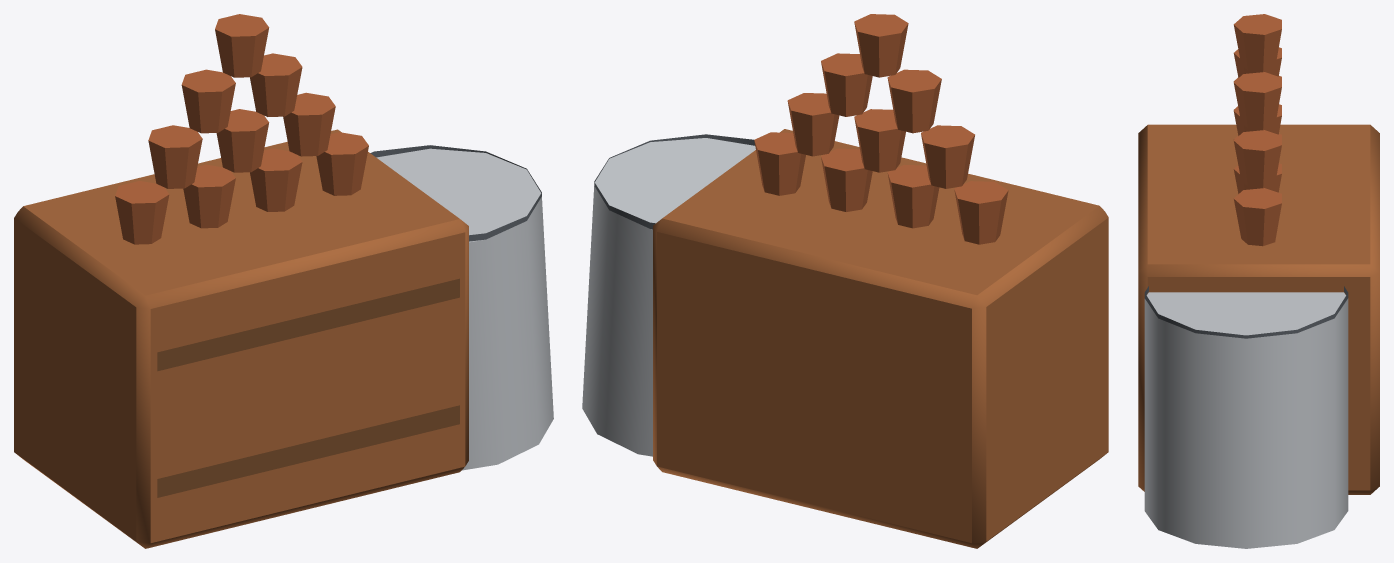
The model's file is growth_kulhad_crate.glb.
3 renders of one model, left to right at view 1: azimuth 30°, elevation 25°; view 2: azimuth 150°, elevation 25°; view 3: azimuth 270°, elevation 25°, orthographic. The views are drawn at different scales.
Visible parts, largest first — view 1: growth_kulhad_crate; view 2: growth_kulhad_crate; view 3: growth_kulhad_crate.
Boxes of the visible parts, x1=… form: growth_kulhad_crate: x1=14, y1=14, x2=553, y2=548; growth_kulhad_crate: x1=582, y1=14, x2=1108, y2=548; growth_kulhad_crate: x1=1138, y1=14, x2=1379, y2=548.
Size of the model in its own units: 0.7548 by 0.7039 by 0.382.
1 material, 1 textured.
